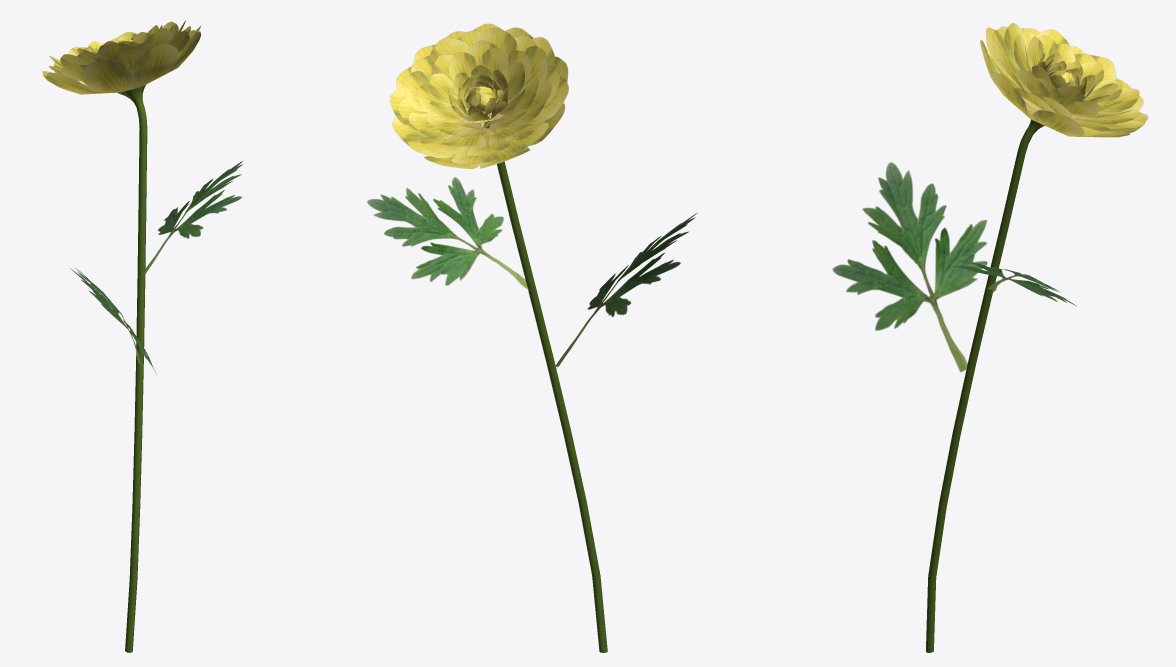
File: flor_amarela_2.glb
The picture shows the model from 3 angles, left to right: view 1: azimuth 30°, elevation 25°; view 2: azimuth 150°, elevation 25°; view 3: azimuth 270°, elevation 25°; orthographic projection. The views are drawn at different scales.
Parts seen in each view (by area): view 1: Cylinder.007; view 2: Cylinder.007; view 3: Cylinder.007.
Part boxes in pixels (left/top/right/bottom): Cylinder.007: left=41, top=20, right=242, bottom=652; Cylinder.007: left=367, top=23, right=697, bottom=652; Cylinder.007: left=832, top=23, right=1148, bottom=652.
Size of the model in its own units: 0.1818 by 0.3815 by 0.2023.
Materials: 2 (2 with a texture image).
